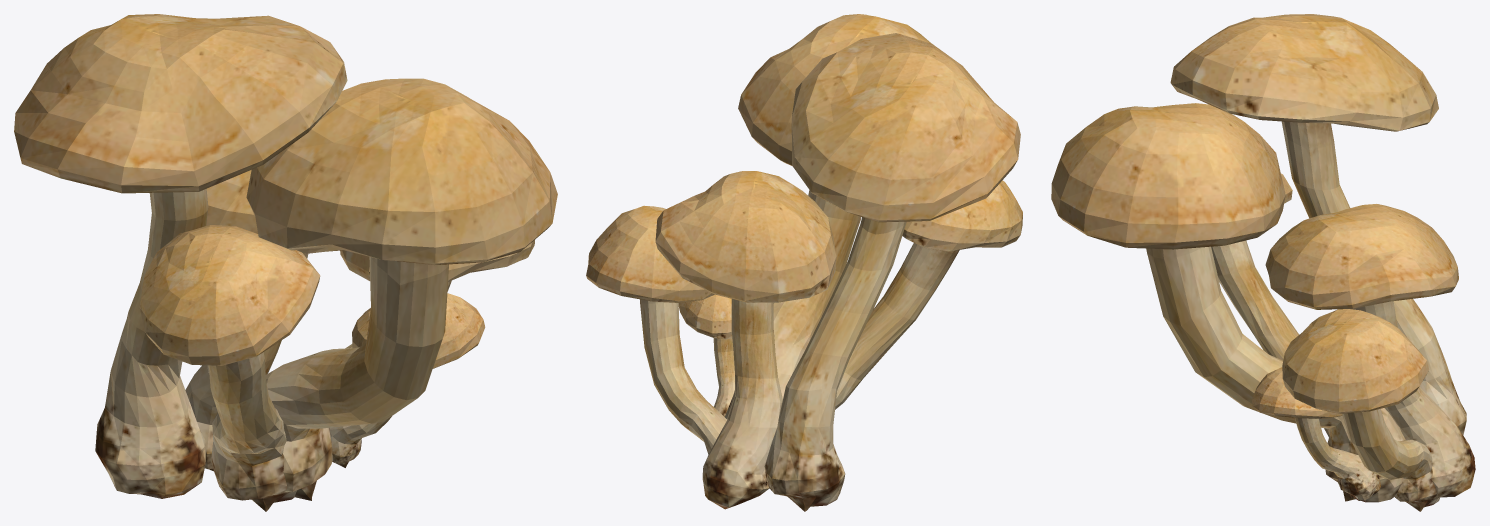
File: P_Pinggu_03.obj
3 views of the same model, side by side, from view 1: azimuth 30°, elevation 25°; view 2: azimuth 150°, elevation 25°; view 3: azimuth 270°, elevation 25° (orthographic). The views are drawn at different scales.
Size of the model in its own units: 0.6774 by 0.6956 by 0.626.
Materials: 1 (1 with a texture image).
